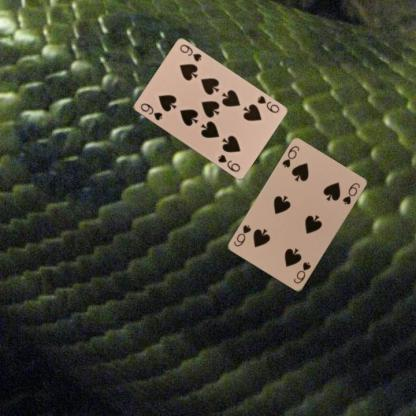6s: (291, 260, 312, 286), (280, 144, 300, 170)
9s: (254, 92, 280, 115), (138, 100, 164, 122)
